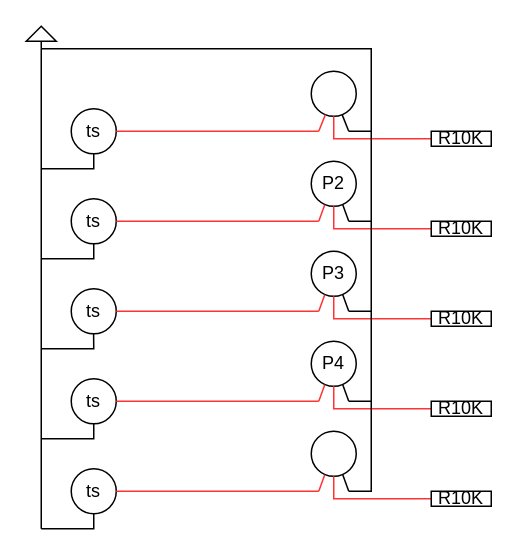
The diagram is 518 pixels wide and 557 high, and some of its shapes have lost their labels. The shapes that lost their labels are listed below. From the top down, each one's box as (x1, y1, x2, y2) in pixels, then its label:
(310, 70, 356, 116): P1
(310, 430, 356, 476): P5
